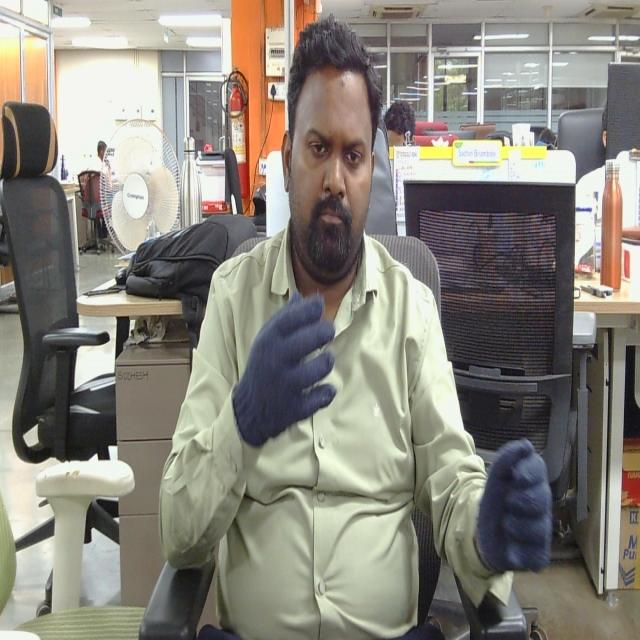Gloves-Detection: (233, 286, 340, 448), (477, 437, 553, 582)
